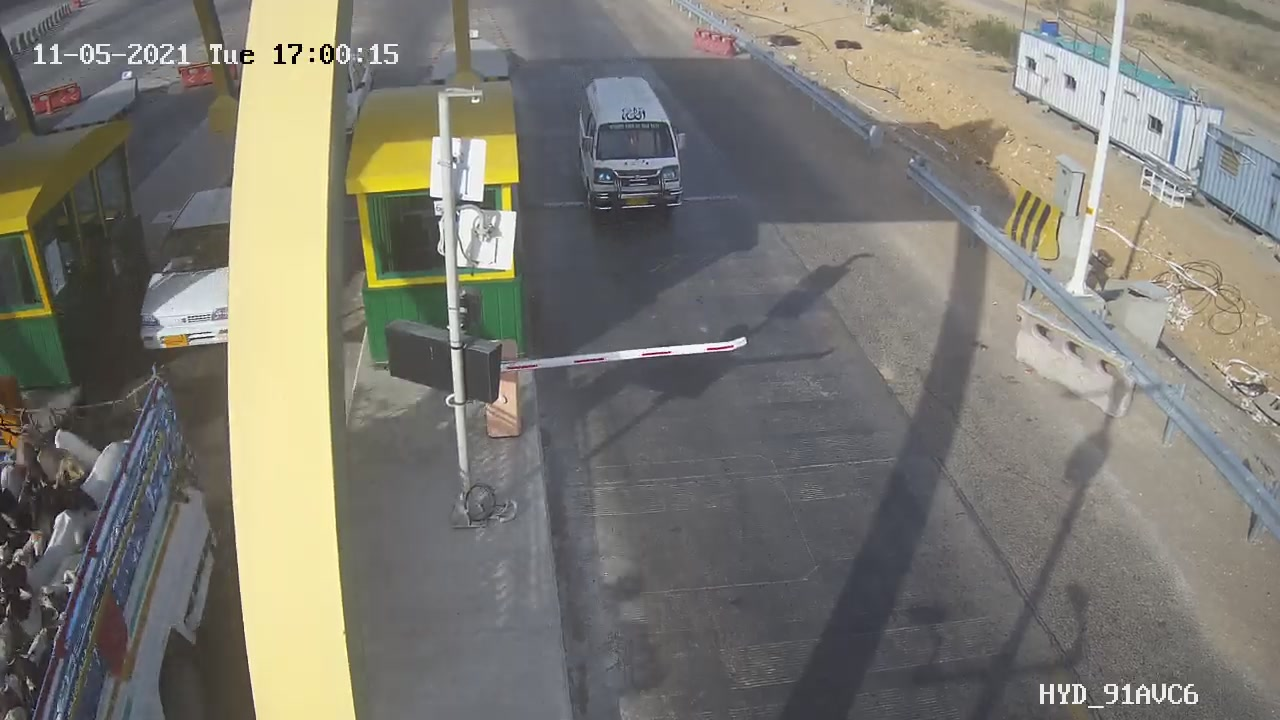F1: (557, 57, 704, 240)
